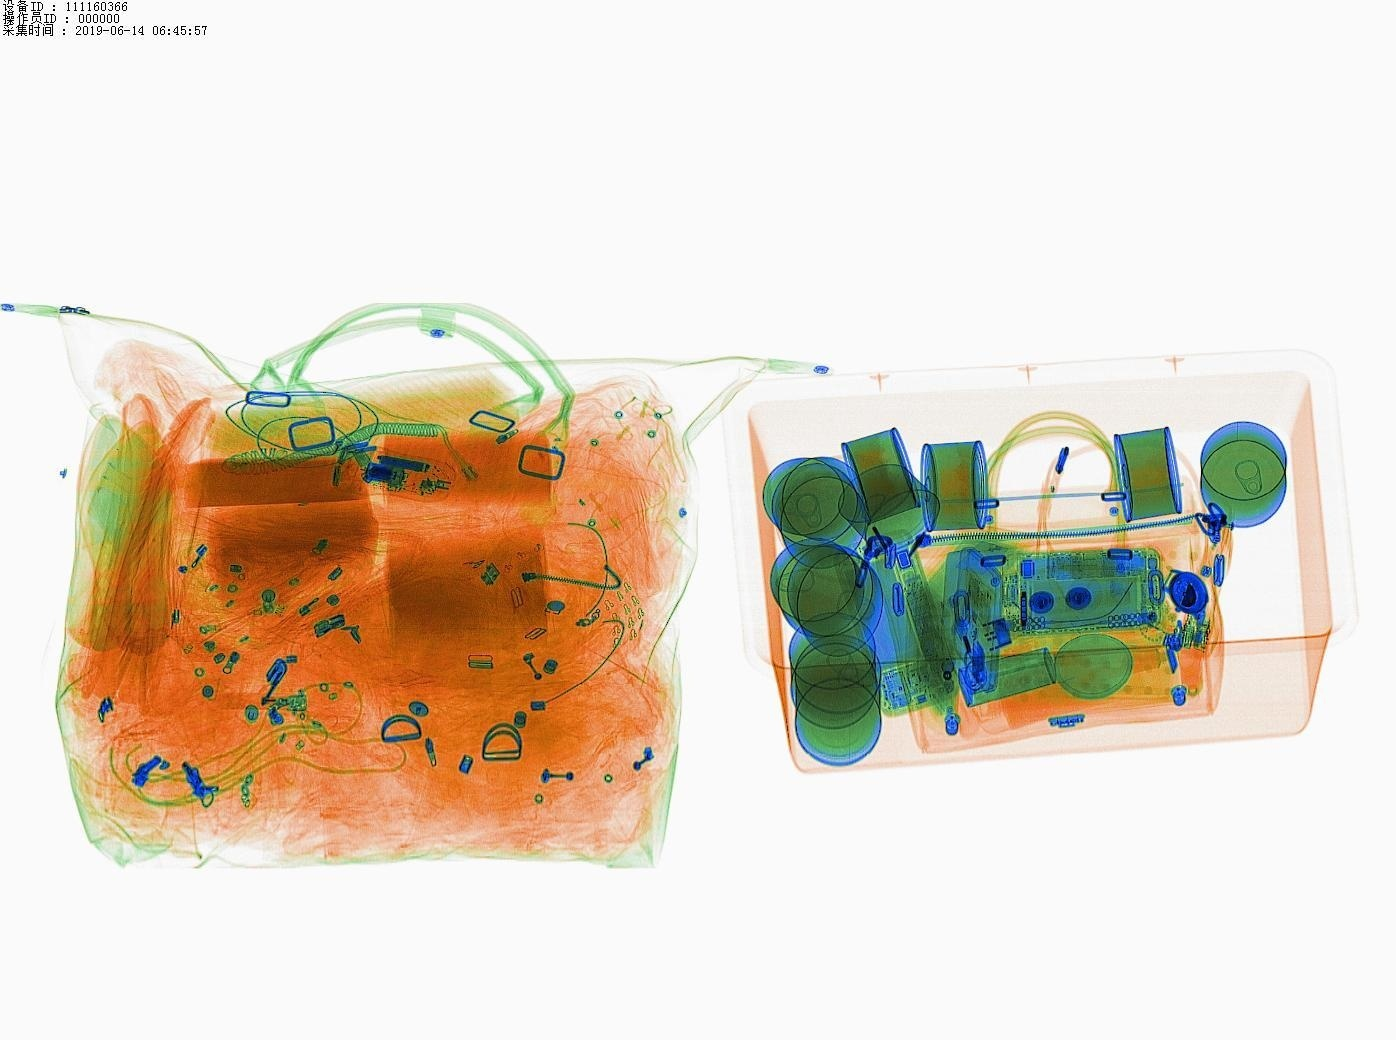NonmetallicFire: (203, 685, 320, 716)
